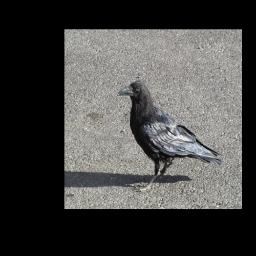Crow: (117, 79, 223, 192)
